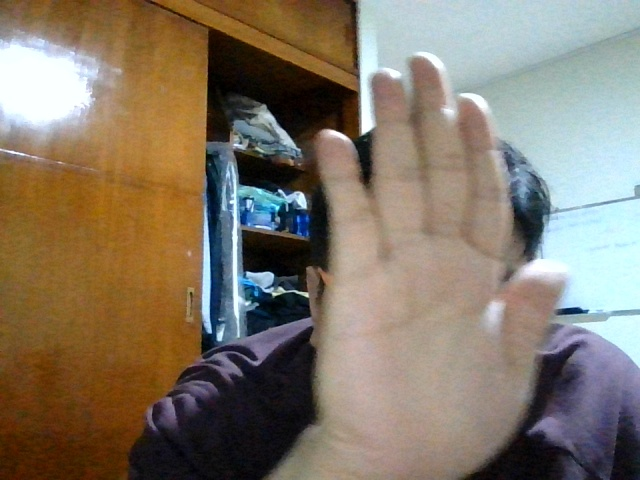hola: (303, 47, 571, 476)
